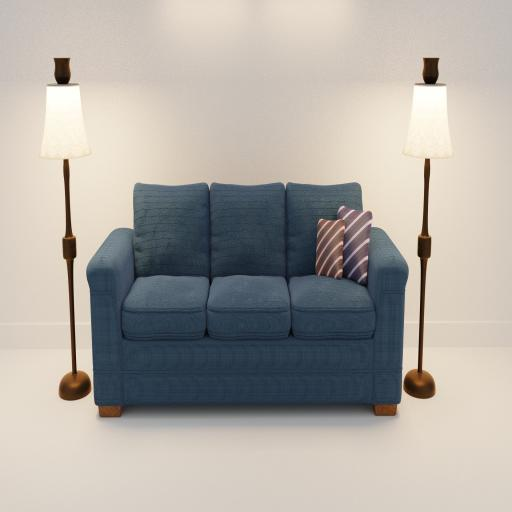back_cushion: (134, 183, 361, 278)
base: (91, 293, 401, 405)
left_arm: (367, 228, 408, 404)
legs: (99, 405, 122, 417), (373, 404, 397, 415)
right_arm: (87, 229, 134, 405)
seat_cushion: (121, 274, 377, 341)
stallion-sofa2: (86, 183, 408, 415)
